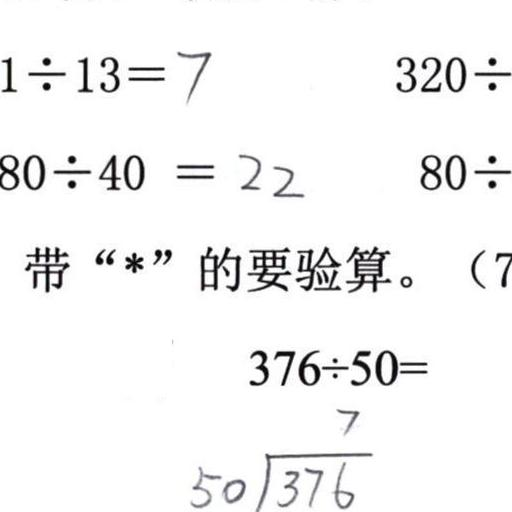ans: (233, 148, 301, 198), (172, 43, 212, 102)
